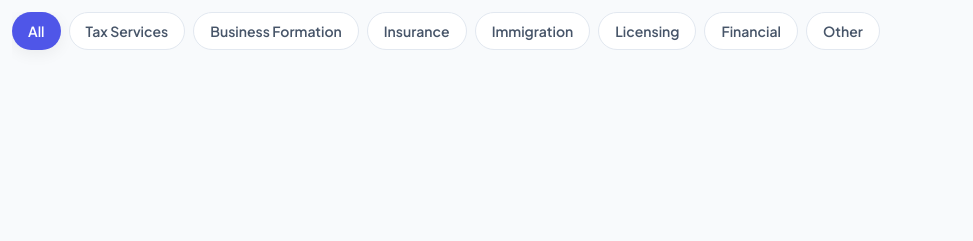
Test: CategoryTabs › shows category buttons and filters forms by category
This screenshot has width=973, height=241.
Check: the button "All" is shown, box [12,12,61,50]
Click the button "Tax Services": [127, 31] box [69,12,185,50]
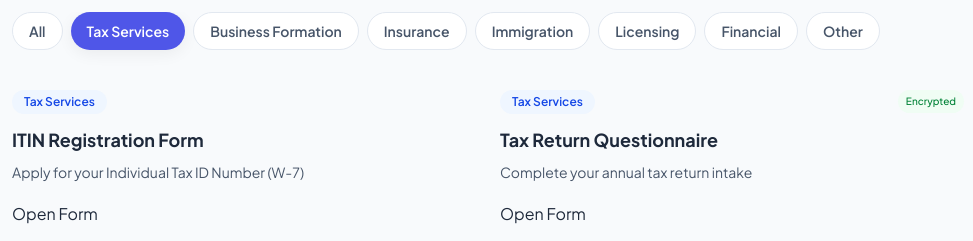
Check: the heading "Tax Return Questionnaire" is shown, box [500,128,718,151]
